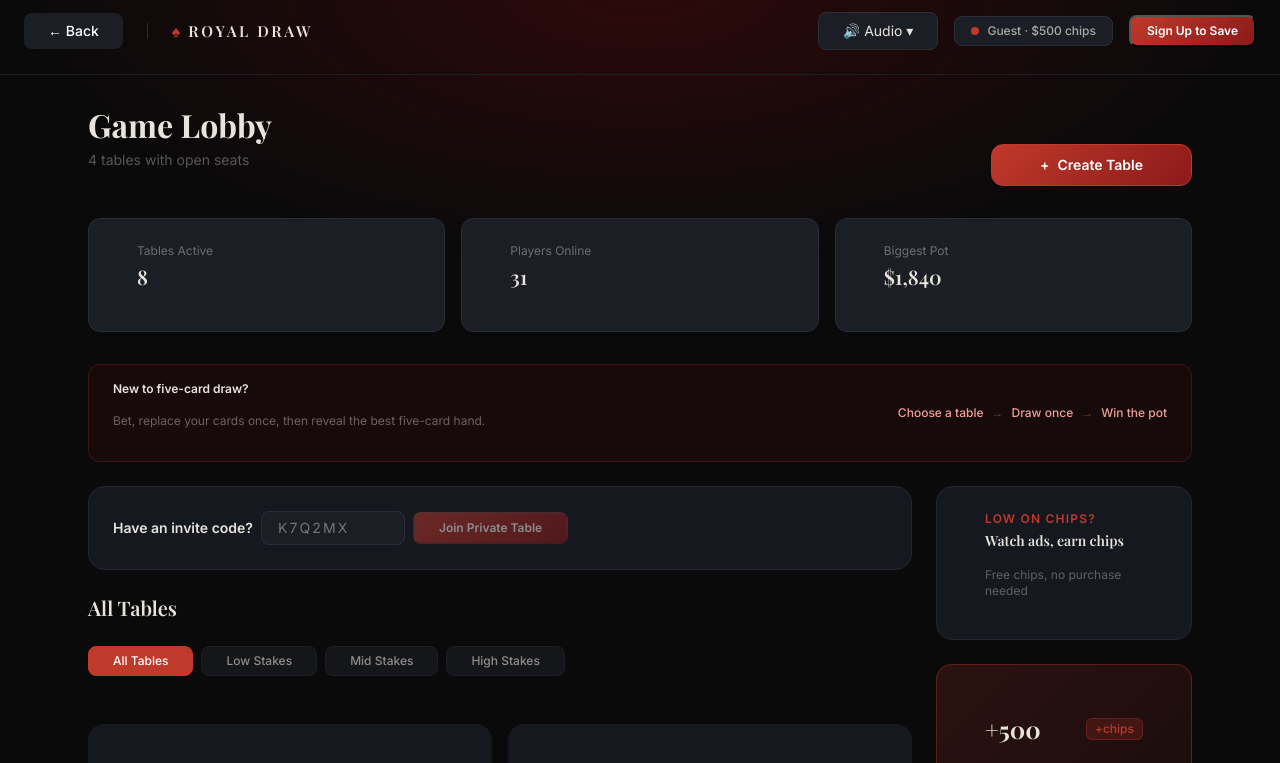
Scenario: Lobby: stakes filters › All Tables brings every table back
Click the button "High Stakes" at (506, 661), box [446, 646, 565, 676]
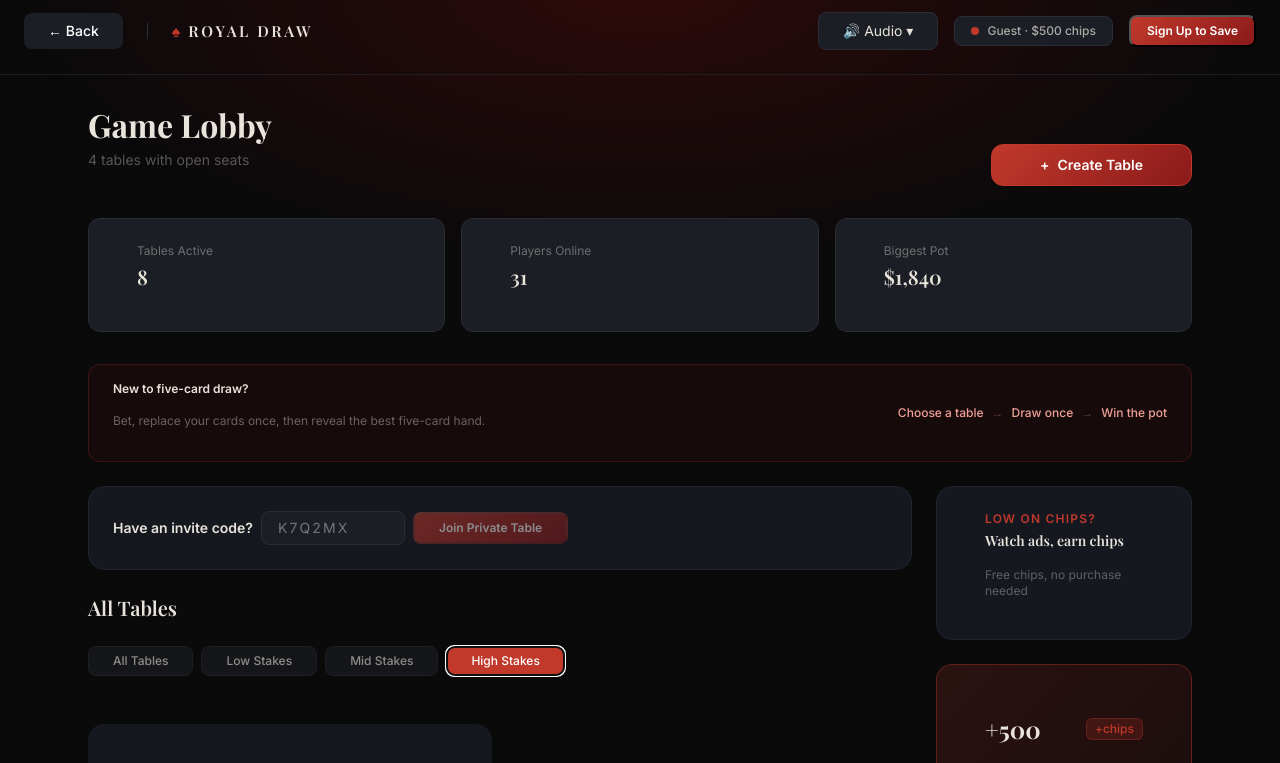
Click the button "All Tables" at (141, 661), box [88, 646, 194, 676]
(page scrolled)
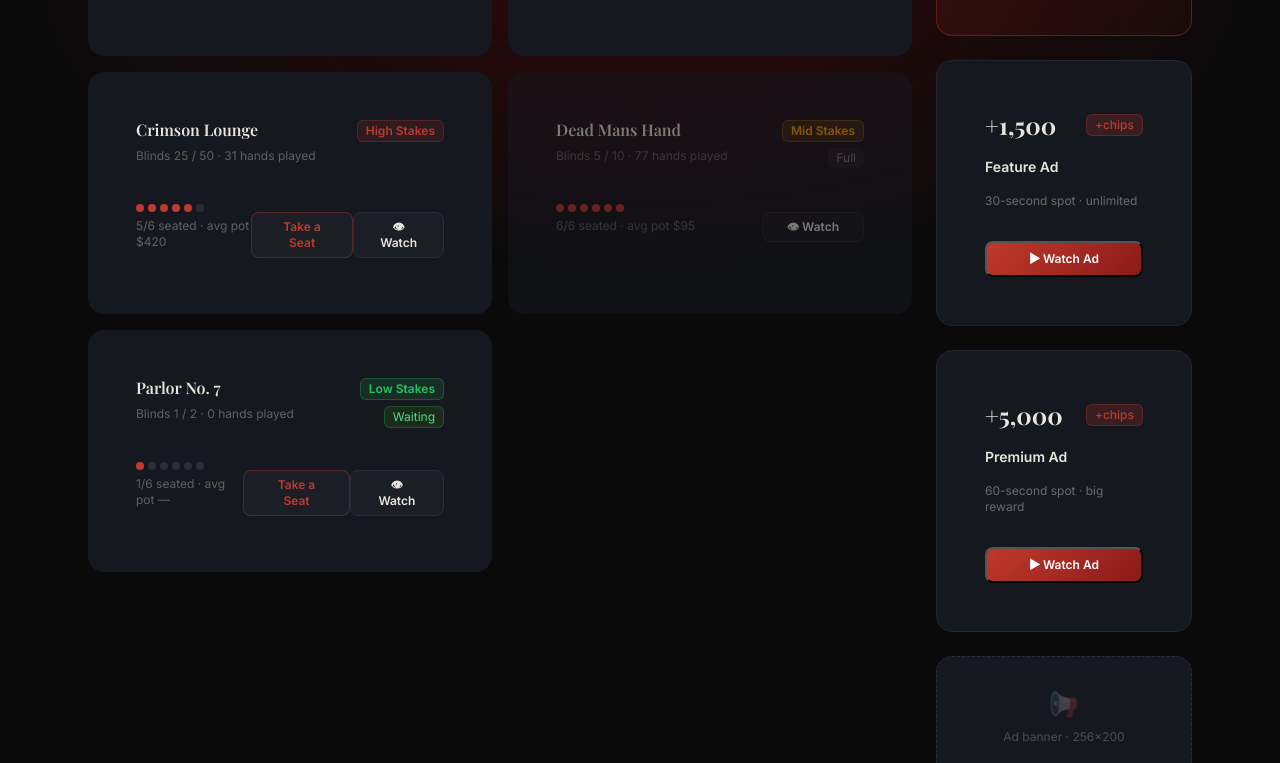
Expected: the heading "Crimson Lounge" is shown, [136, 119, 258, 140]
Result: the heading "Dead Mans Hand" is shown at [556, 119, 681, 140]
Result: the heading "Parlor No. 7" is shown at [136, 377, 221, 398]
